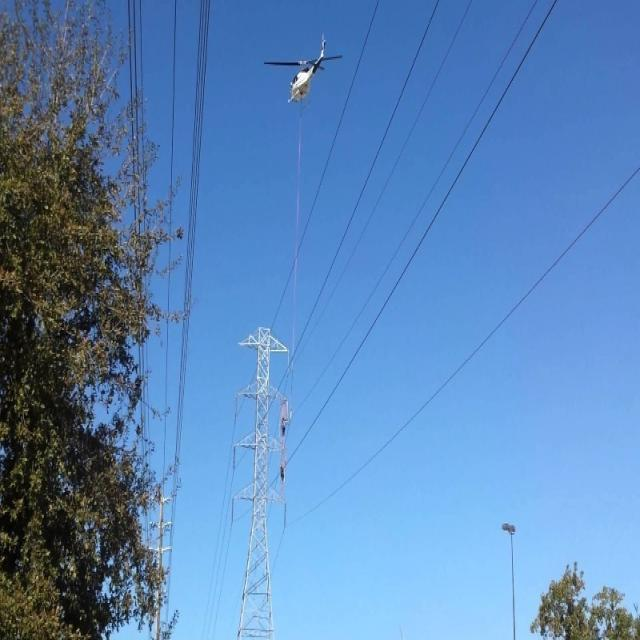non-critical vegetation: (223, 313, 290, 623)
